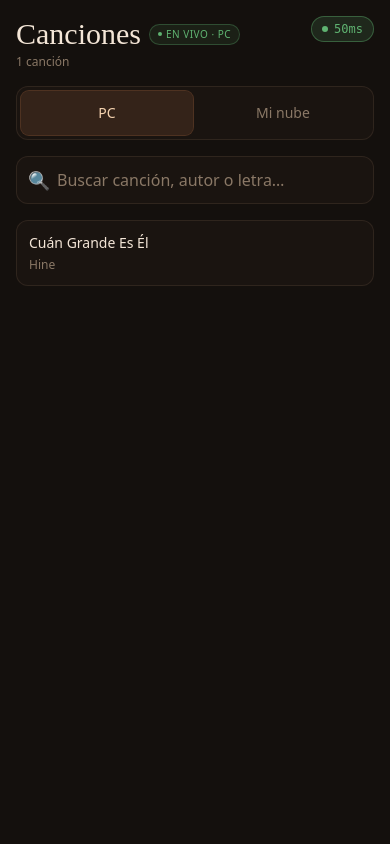
Test: 4. tap row abre sheet con haptic light
Click the button with aria-label "Canción Cuán Grande": click(89, 242) left=16, top=220, right=374, bottom=286
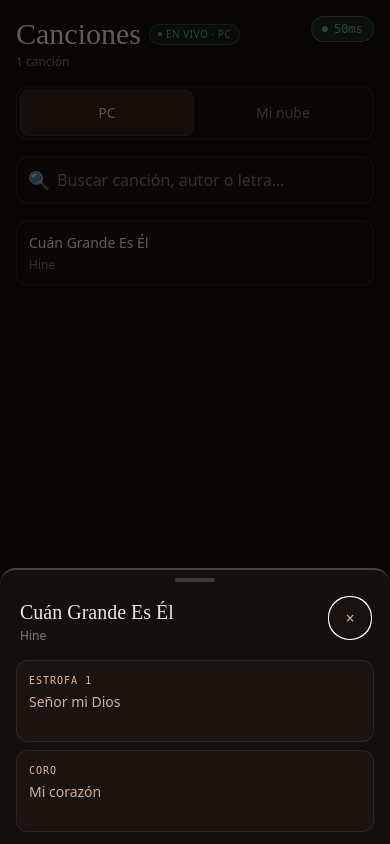
Now the dialog is shown, box left=0, top=568, right=389, bottom=843
